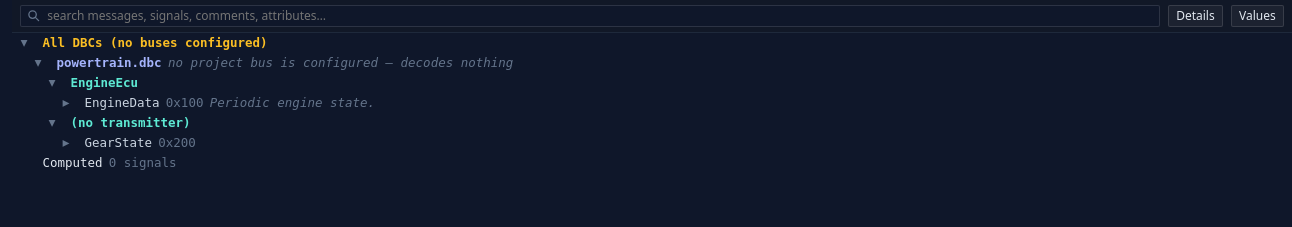
DatabasePanel › the values toggle fetches and renders live values for rendered signal rows
// Expand EngineData so its signal rows render.
Click the text "EngineData". click: (122, 103)
box: top-left (84, 95), bottom-right (160, 110)
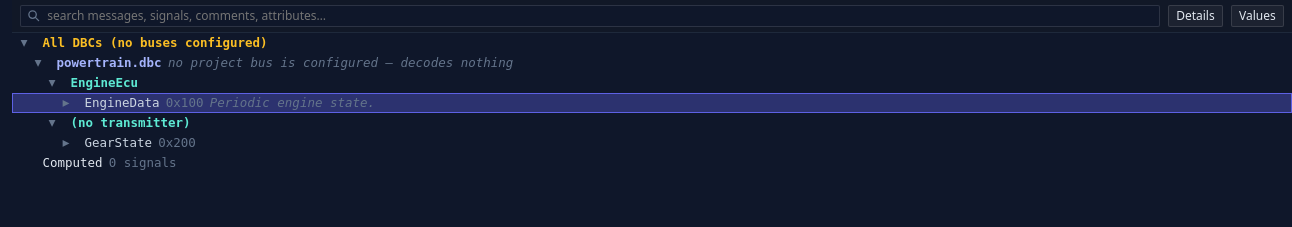
Click the button with class "dbc-row-chevron" next to "EngineData". click: (66, 103)
box: top-left (54, 94), bottom-right (78, 111)
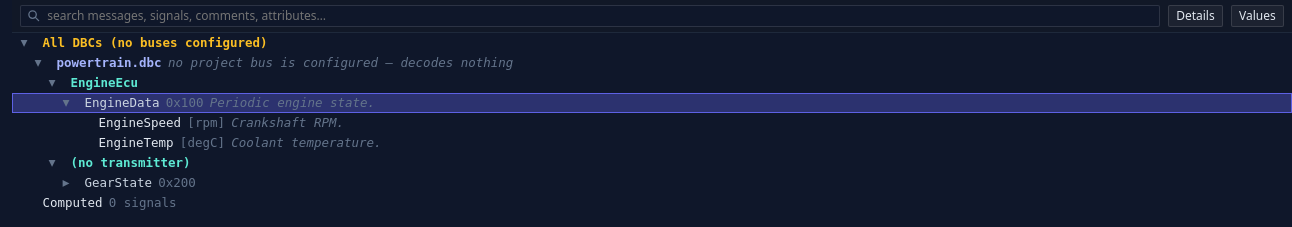
expect the text "EngineSpeed" is shown: met, box top-left (98, 115), bottom-right (181, 130)
// Toggle the live value column on.
Click the button labelled "Values". click: (1257, 16)
box: top-left (1231, 5), bottom-right (1284, 27)
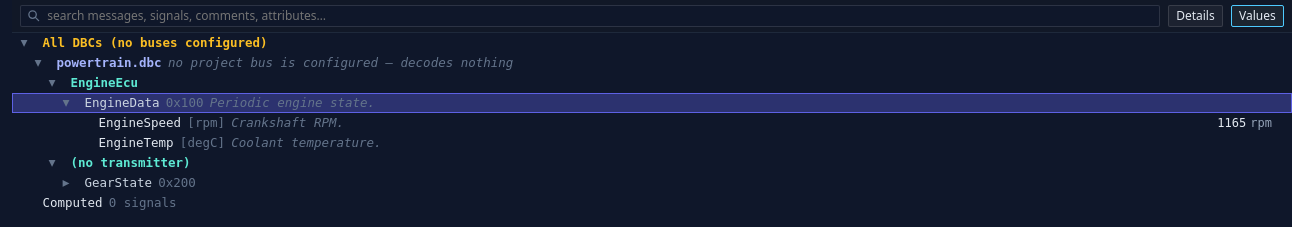
expect the text "1165" reads "1165rpm": met, box top-left (1213, 116), bottom-right (1276, 130)
